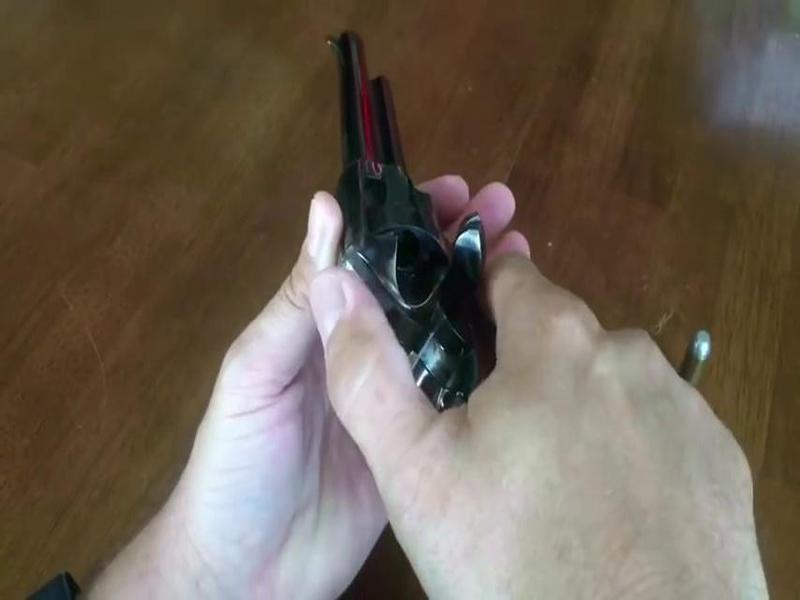Revolver: (310, 17, 488, 424)
